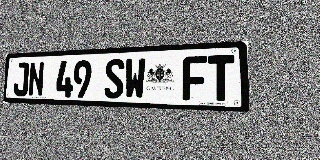4: (56, 60, 74, 97)
9: (73, 60, 92, 98)
F: (182, 56, 207, 101)
J: (13, 62, 29, 96)
N: (28, 62, 45, 97)
S: (104, 59, 124, 99)
T: (208, 55, 234, 101)
W: (124, 58, 146, 99)
